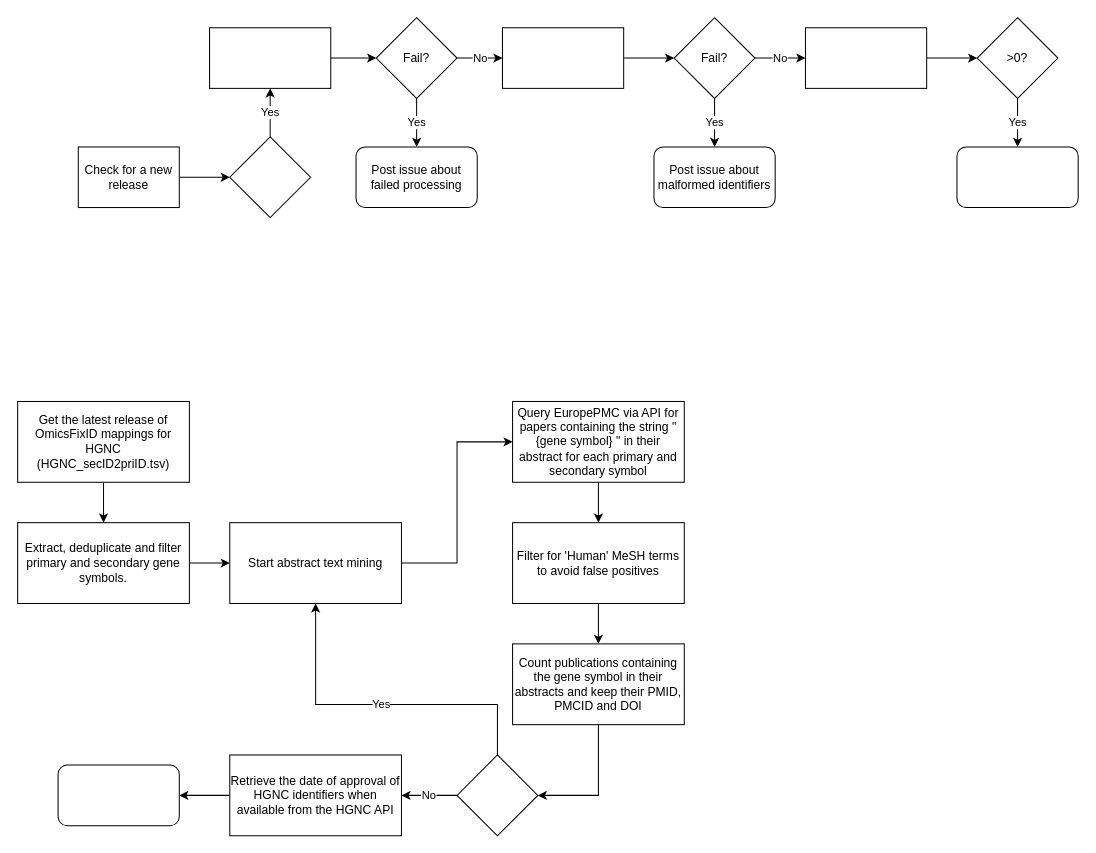
The diagram is 1096 pixels wide and 853 high, and some of its shapes have lost their labels. The centre of each missing label's shape, as x and y in pixels:
Analyze primary and secondary symbol usage: point (118, 795)
Available?: point (270, 177)
Count added, edited and removed mapping pairs: point (865, 57)
More symbols?: point (497, 795)
Post issue about new release and changes: point (1017, 177)
Test identifier conformity to regular expressions: point (562, 57)
Test mapping file generation: point (270, 57)
